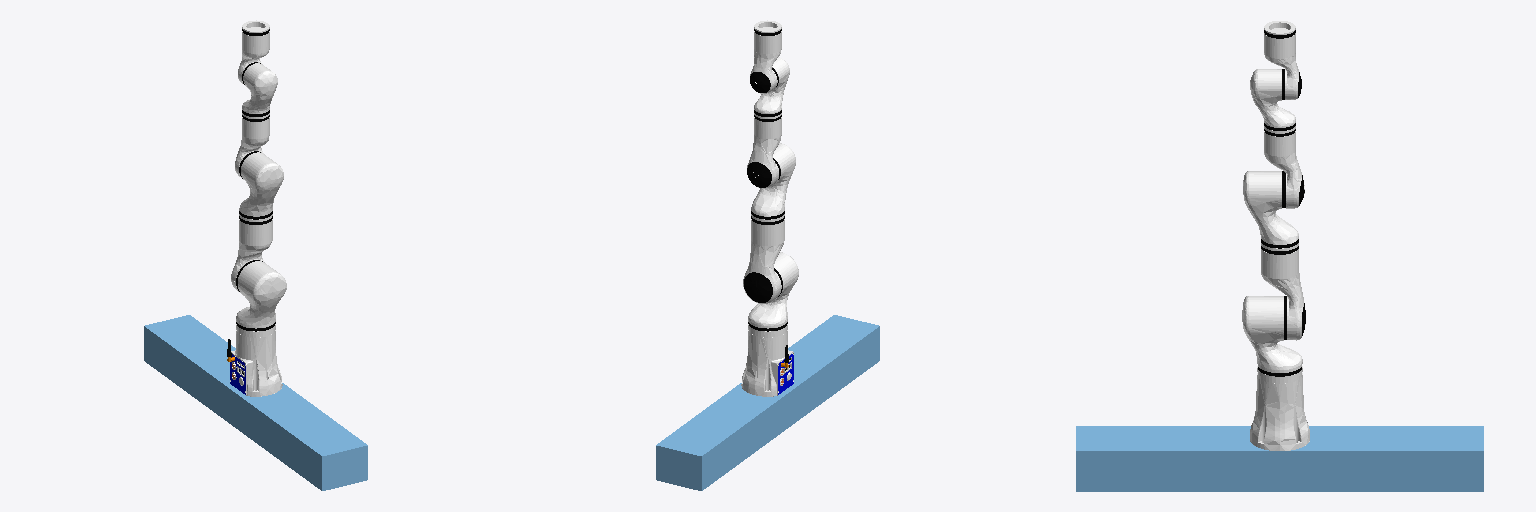
URDF robot description (RM75-6F-8dof-genesis):
<?xml version="1.0" encoding="utf-8"?>
<!-- Genesis viewer URDF: 74 cm rail visual + RM75 arm Collada meshes.
     Joint origins MUST match RM75-6F-8dof.urdf (verified FK @ joint_admittance).
     No extra visual offsets on arm links — meshes only at origin 0 0 0. -->
<robot name="RM75-6F-8dof-genesis">
  <link name="rail_base">
    <inertial>
      <origin xyz="0 0 0" rpy="0 0 0" />
      <mass value="5.0" />
      <inertia ixx="0.05" ixy="0" ixz="0" iyy="0.05" iyz="0" izz="0.05" />
    </inertial>
  </link>

  <link name="rail_visual">
    <visual>
      <origin xyz="0 0 -0.04" rpy="0 0 0" />
      <geometry>
        <box size="0.11 0.74 0.08" />
      </geometry>
      <material name="rail_light_blue">
        <color rgba="0.55 0.78 0.95 1.0" />
      </material>
    </visual>
  </link>
  <joint name="rail_visual_mount" type="fixed">
    <origin xyz="0 0 0" rpy="0 0 0" />
    <parent link="rail_base" />
    <child link="rail_visual" />
  </joint>
  <link name="slider_link">
    <inertial>
      <origin xyz="0 0 0" rpy="0 0 0" />
      <mass value="2.0" />
      <inertia ixx="0.01" ixy="0" ixz="0" iyy="0.01" iyz="0" izz="0.01" />
    </inertial>
  </link>
  <joint name="rail_y" type="prismatic">
    <origin xyz="0 0 0" rpy="0 0 0" />
    <parent link="rail_base" />
    <child link="slider_link" />
    <axis xyz="0 1 0" />
    <limit lower="-0.25" upper="0.25" velocity="0.20" effort="500" />
  </joint>
  <link name="base_link">
    <inertial>
      <origin xyz="0.00049987 5.2709E-05 0.060019" rpy="0 0 0" />
      <mass value="1.862" />
      <inertia ixx="0.0017232" ixy="-3.1058E-06" ixz="-3.7924E-05"
               iyy="0.0017051" iyz="1.3691E-06" izz="0.00090158" />
    </inertial>
    <visual>
      <origin xyz="0 0 0" rpy="0 0 0" />
      <geometry>
        <mesh filename="meshes/base_link.dae" />
      </geometry>
    </visual>
  </link>
  <joint name="arm_mount" type="fixed">
    <origin xyz="0 0 0" rpy="0 0 0" />
    <parent link="slider_link" />
    <child link="base_link" />
  </joint>
  <link name="link_1">
    <inertial>
      <origin xyz="0.000241 -0.013273 -0.00995" rpy="0 0 0" />
      <mass value="1.574" />
      <inertia ixx="0.002487573" ixy="0.000009663" ixz="-0.000007909"
               iyy="0.002321038" iyz="0.000179393" izz="0.001450554" />
    </inertial>
    <visual>
      <origin xyz="0 0 0" rpy="0 0 0" />
      <geometry>
        <mesh filename="meshes/link_1.dae" />
      </geometry>
    </visual>
  </link>
  <joint name="joint_1" type="revolute">
    <origin xyz="0 0 0.2405" rpy="0 0 0" />
    <parent link="base_link" />
    <child link="link_1" />
    <axis xyz="0 0 1" />
    <limit lower="-3.106" upper="3.106" effort="60" velocity="3.14" />
  </joint>
  <link name="link_2">
    <inertial>
      <origin xyz="-0.000357 -0.106789 0.005329" rpy="0 0 0" />
      <mass value="1.217" />
      <inertia ixx="0.003494121" ixy="0.000002921" ixz="-0.000005613"
               iyy="0.000892721" iyz="-0.000583884" izz="0.003444080" />
    </inertial>
    <visual>
      <origin xyz="0 0 0" rpy="0 0 0" />
      <geometry>
        <mesh filename="meshes/link_2.dae" />
      </geometry>
    </visual>
  </link>
  <joint name="joint_2" type="revolute">
    <origin xyz="0 0 0" rpy="-1.5708 0 0" />
    <parent link="link_1" />
    <child link="link_2" />
    <axis xyz="0 0 1" />
    <limit lower="-2.2689" upper="2.2689" effort="60" velocity="3.14" />
  </joint>
  <link name="link_3">
    <inertial>
      <origin xyz="0.000003 -0.01398 -0.011324" rpy="0 0 0" />
      <mass value="1.11" />
      <inertia ixx="0.001836663" ixy="0.000002259" ixz="-0.000004216"
               iyy="0.001498875" iyz="0.000037167" izz="0.001062545" />
    </inertial>
    <visual>
      <origin xyz="0 0 0" rpy="0 0 0" />
      <geometry>
        <mesh filename="meshes/link_3.dae" />
      </geometry>
    </visual>
  </link>
  <joint name="joint_3" type="revolute">
    <origin xyz="0 -0.256 0" rpy="1.5708 0 0" />
    <parent link="link_2" />
    <child link="link_3" />
    <axis xyz="0 0 1" />
    <limit lower="-3.106" upper="3.106" effort="30" velocity="3.14" />
  </joint>
  <link name="link_4">
    <inertial>
      <origin xyz="-0.000005 -0.084658 0.004747" rpy="0 0 0" />
      <mass value="0.685" />
      <inertia ixx="0.001282444" ixy="-0.000000551" ixz="-0.000000630"
               iyy="0.000373013" iyz="-0.000232084" izz="0.001256177" />
    </inertial>
    <visual>
      <origin xyz="0 0 0" rpy="0 0 0" />
      <geometry>
        <mesh filename="meshes/link_4.dae" />
      </geometry>
    </visual>
  </link>
  <joint name="joint_4" type="revolute">
    <origin xyz="0 0 0" rpy="-1.5708 0 0" />
    <parent link="link_3" />
    <child link="link_4" />
    <axis xyz="0 0 1" />
    <limit lower="-2.356" upper="2.356" effort="30" velocity="3.14" />
  </joint>
  <link name="link_5">
    <inertial>
      <origin xyz="0.000078 -0.012937 -0.008781" rpy="0 0 0" />
      <mass value="0.619" />
      <inertia ixx="0.000627336" ixy="0.000001636" ixz="-0.000001345"
               iyy="0.000542455" iyz="0.000034970" izz="0.000370291" />
    </inertial>
    <visual>
      <origin xyz="0 0 0" rpy="0 0 0" />
      <geometry>
        <mesh filename="meshes/link_5.dae" />
      </geometry>
    </visual>
  </link>
  <joint name="joint_5" type="revolute">
    <origin xyz="0 -0.21 0" rpy="1.5708 0 0" />
    <parent link="link_4" />
    <child link="link_5" />
    <axis xyz="0 0 1" />
    <limit lower="-3.106" upper="3.106" effort="10" velocity="3.14" />
  </joint>
  <link name="link_6">
    <inertial>
      <origin xyz="-0.000014 -0.078524 0.002819" rpy="0 0 0" />
      <mass value="0.602" />
      <inertia ixx="0.000780774" ixy="-0.000000121" ixz="-0.000000469"
               iyy="0.000289973" iyz="-0.000120513" izz="0.000763955" />
    </inertial>
    <visual>
      <origin xyz="0 0 0" rpy="0 0 0" />
      <geometry>
        <mesh filename="meshes/link_6.dae" />
      </geometry>
    </visual>
  </link>
  <joint name="joint_6" type="revolute">
    <origin xyz="0 0 0" rpy="-1.5708 0 0" />
    <parent link="link_5" />
    <child link="link_6" />
    <axis xyz="0 0 1" />
    <limit lower="-2.234" upper="2.234" effort="10" velocity="3.14" />
  </joint>
  <link name="link_7">
    <inertial>
      <origin xyz="0.001094 -0.000077 -0.010119" rpy="0 0 0" />
      <mass value="0.144" />
      <inertia ixx="0.000044123" ixy="-0.000000064" ixz="0.0000003"
               iyy="0.000035078" iyz="-0.000000029" izz="0.000065445" />
    </inertial>
    <visual>
      <origin xyz="0 0 0" rpy="0 0 0" />
      <geometry>
        <mesh filename="meshes/link_7.dae" />
      </geometry>
    </visual>
  </link>
  <joint name="joint_7" type="revolute">
    <origin xyz="0 -0.1612 0" rpy="1.5708 0 0" />
    <parent link="link_6" />
    <child link="link_7" />
    <axis xyz="0 0 1" />
    <limit lower="-6.28" upper="6.28" effort="10" velocity="3.14" />
  </joint>
  <link name="link_8">
    <inertial>
      <origin xyz="0.003680 -0.012695 0.076874" rpy="0 0 0" />
      <mass value="0.4829" />
      <inertia ixx="0.0004135" ixy="-0.000003908" ixz="0.00003379"
               iyy="0.0002717" iyz="0.00001544" izz="0.0003621" />
    </inertial>
    <visual>
      <origin xyz="0 0 0" rpy="0 0 0" />
      <geometry>
        <mesh filename="meshes/linear_probe.dae" />
      </geometry>
    </visual>
  </link>
  <joint name="joint_8" type="fixed">
    <origin xyz="0 0 0" rpy="0 0 0" />
    <parent link="link_7" />
    <child link="link_8" />
  </joint>
  <link name="tcp" />
  <joint name="link_7_to_tcp" type="fixed">
    <origin xyz="0 -0.08 0.06" rpy="0 1.570796327 -1.570796327" />
    <parent link="link_7" />
    <child link="tcp" />
  </joint>
</robot>

--- What the picture shows (computed from the rendered views, not written in the file) ---
The picture shows the robot from 3 angles, left to right: view 1: azimuth 30°, elevation 25°; view 2: azimuth 150°, elevation 25°; view 3: azimuth 270°, elevation 25°; orthographic projection.
Robot: RM75-6F-8dof-genesis — 13 links, 12 joints (7 revolute, 1 prismatic, 4 fixed); root link rail_base; default pose: all joints at 0.
Links seen in each view (by area): view 1: rail_visual, base_link, link_1, link_3, link_5, link_2, link_6, link_4; view 2: rail_visual, base_link, link_2, link_4, link_1, link_6, link_3, link_5; view 3: rail_visual, base_link, link_1, link_3, link_2, link_5, link_6, link_4.
Boxes of the visible links, x1,y1,x2,y2 form: rail_visual: (144, 315, 367, 490); base_link: (227, 326, 282, 396); link_1: (235, 259, 286, 332); link_3: (239, 151, 283, 220); link_5: (241, 62, 277, 117); link_2: (231, 215, 272, 291); link_6: (238, 20, 269, 83); link_4: (235, 114, 269, 176); rail_visual: (656, 315, 879, 490); base_link: (741, 326, 793, 396); link_2: (743, 215, 784, 303); link_4: (747, 114, 781, 188); link_1: (748, 252, 798, 332); link_6: (750, 20, 781, 93); link_3: (751, 143, 795, 220); link_5: (754, 57, 789, 117); rail_visual: (1076, 426, 1483, 491); base_link: (1250, 370, 1309, 450); link_1: (1242, 296, 1302, 378); link_3: (1243, 171, 1298, 249); link_2: (1261, 244, 1305, 340); link_5: (1250, 69, 1295, 131); link_6: (1264, 21, 1301, 99); link_4: (1264, 127, 1304, 208).
Bounding box of the posed robot: 0.1143 × 0.74 × 0.9015 m (x, y, z).
7 mesh visuals loaded from 9 distinct referenced files (7 Collada DAE); not drawn: 2 (reference not matched to a file when rendering).
